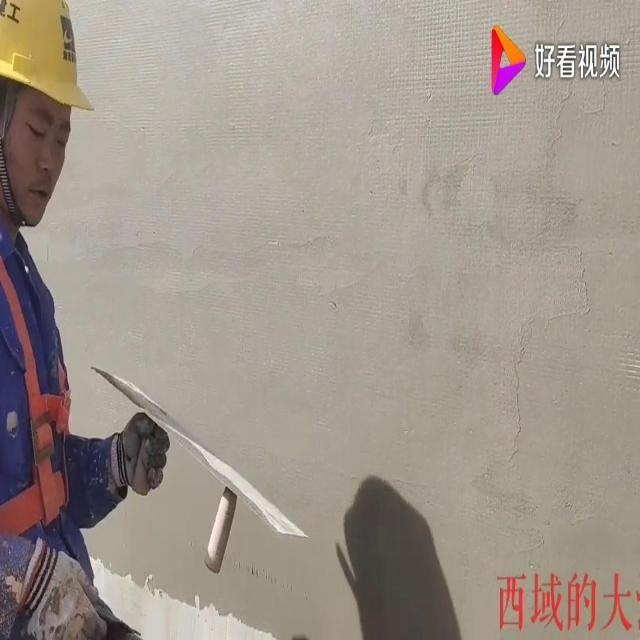Arnes_seguridad: (0, 214, 88, 549)
